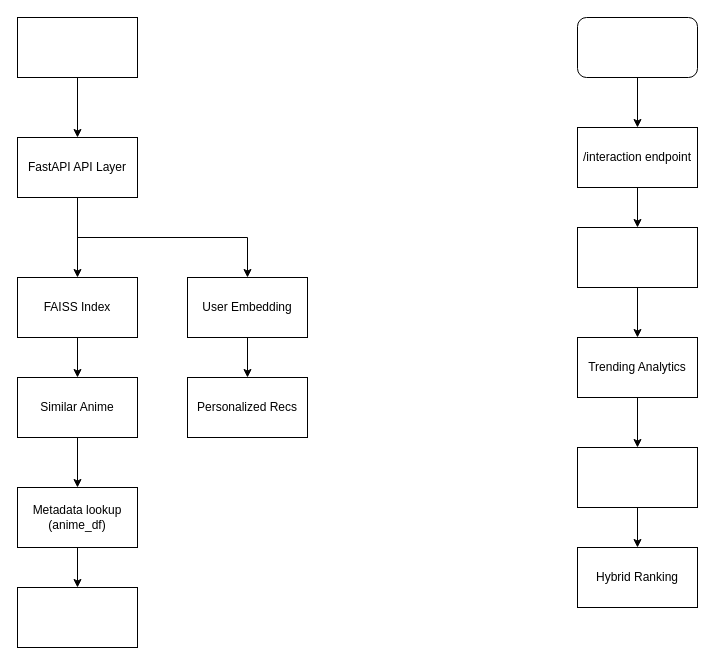
The diagram is 715 pixels wide and 665 high, and some of its shapes have lost their labels. The centre of each missing label's shape, as x and y in pixels:
interactions.csv: pixel 637 257
Popularity Scores: pixel 637 477
Responce Json: pixel 77 617
User: pixel 77 47
User Interaction: pixel 637 47
